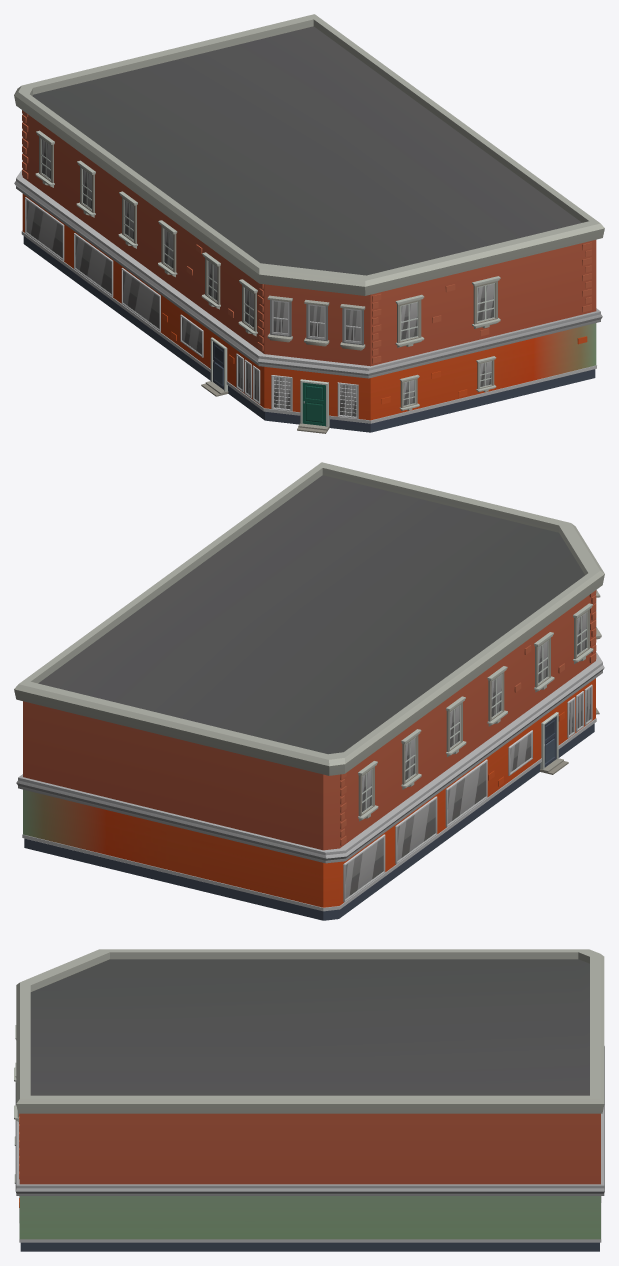
The model's file is Building_25_11_D.glb.
3 views of the same model, one above another, from view 1: azimuth 30°, elevation 25°; view 2: azimuth 150°, elevation 25°; view 3: azimuth 270°, elevation 25° (orthographic). The views are drawn at different scales.
Parts seen in each view (by area): view 1: Building_25_11_D; view 2: Building_25_11_D; view 3: Building_25_11_D.
Boxes of the visible parts, bbox=[...] form: Building_25_11_D: bbox=[14, 14, 604, 433]; Building_25_11_D: bbox=[14, 462, 604, 920]; Building_25_11_D: bbox=[14, 949, 604, 1251].
Size of the model in its own units: 16.83 by 7.93 by 27.29.
Materials: 3 (3 with a texture image).
